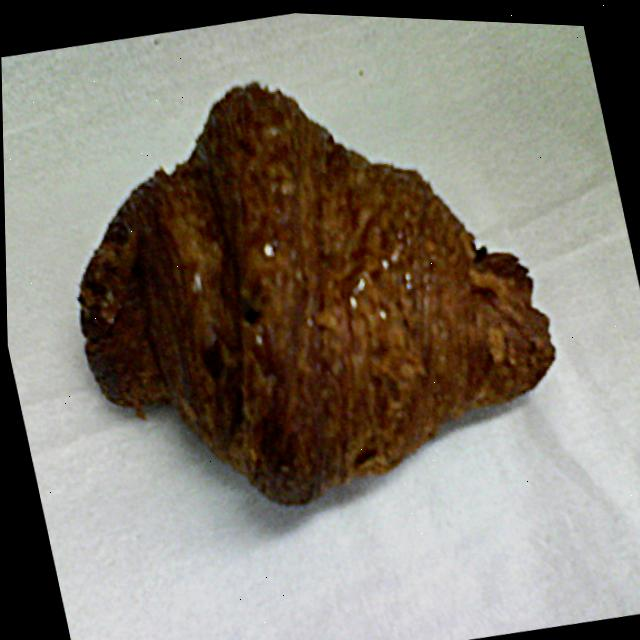面包点心: (9, 3, 600, 573)
